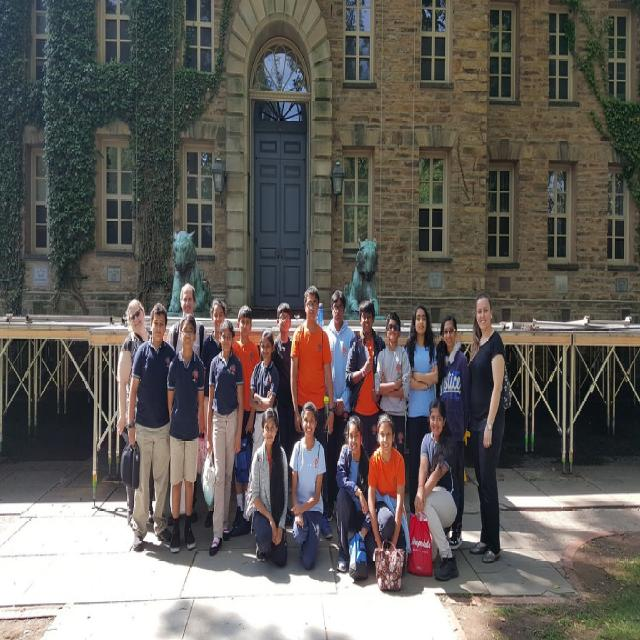body: (123, 300, 178, 553), (464, 290, 514, 566), (289, 283, 335, 541), (204, 313, 246, 558), (165, 309, 206, 554), (411, 394, 462, 584), (436, 310, 473, 552), (115, 297, 153, 530), (322, 288, 357, 522), (365, 408, 412, 580), (243, 404, 290, 569), (332, 412, 378, 574), (230, 303, 262, 531), (404, 304, 438, 514), (344, 297, 387, 461), (287, 399, 327, 572), (199, 294, 228, 529), (373, 310, 412, 457), (248, 326, 280, 466), (272, 301, 297, 468), (165, 281, 208, 360)
